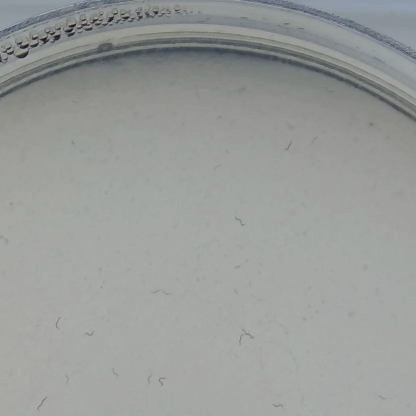worm: (230, 324, 254, 351), (223, 213, 251, 235), (143, 285, 176, 301), (265, 396, 291, 416), (32, 394, 54, 413), (278, 138, 297, 159), (105, 361, 127, 378), (60, 367, 79, 385), (51, 313, 65, 334), (307, 129, 321, 148), (154, 372, 170, 388), (143, 369, 154, 391), (371, 390, 385, 407), (85, 324, 98, 341), (0, 234, 14, 245)
